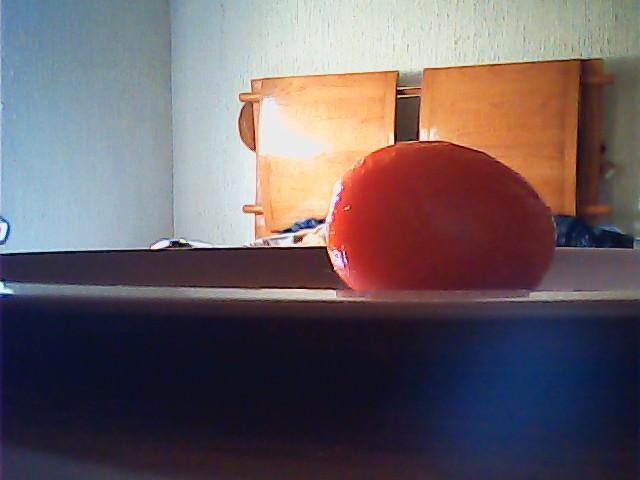maduro: (319, 138, 559, 292)
